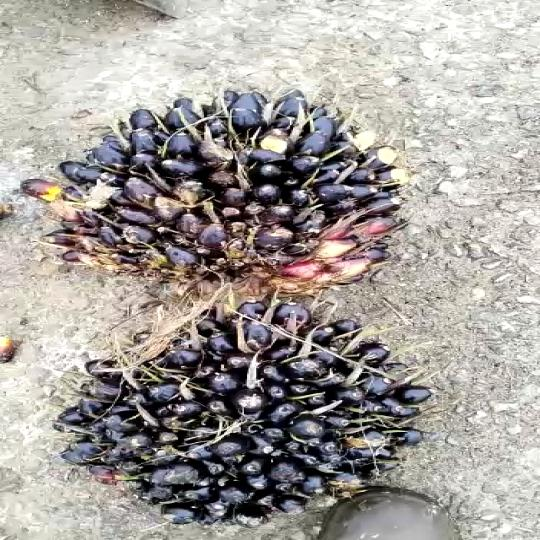mentah: (22, 87, 450, 304), (41, 304, 462, 517)
